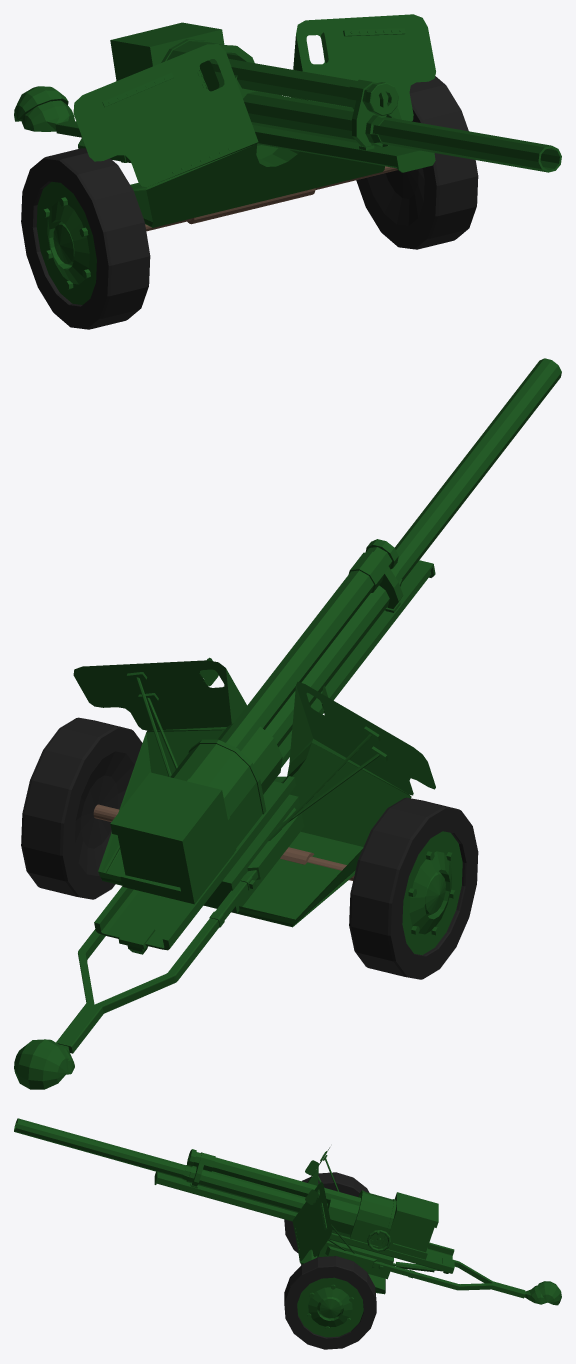
File: M5_CanonOBJ.obj
3 renders of one model, top to bottom at view 1: azimuth 30°, elevation 25°; view 2: azimuth 150°, elevation 25°; view 3: azimuth 270°, elevation 25°, orthographic. The views are drawn at different scales.
Visible parts, largest first — view 1: M5_Antitank; view 2: M5_Antitank; view 3: M5_Antitank.
Boxes of the visible parts, x1=… form: M5_Antitank: x1=14, y1=14, x2=561, y2=329; M5_Antitank: x1=14, y1=358, x2=561, y2=1089; M5_Antitank: x1=14, y1=1118, x2=561, y2=1349.
Bounding box in the file's own units: 7.28 × 6.44 × 17.39.
